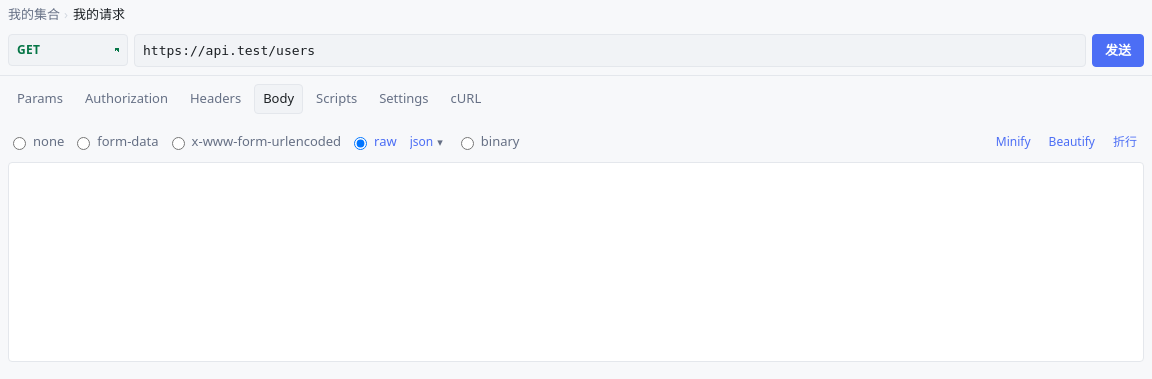
Test: 请求体类型的选择行（spec: 请求体类型的选择行） › 切换类型即切换编辑器，并清掉其它类型的残留内容
The width and height of the screenshot is (1152, 379).
Click the radio button labelled "form-data": (84, 143) [77,136,90,150]
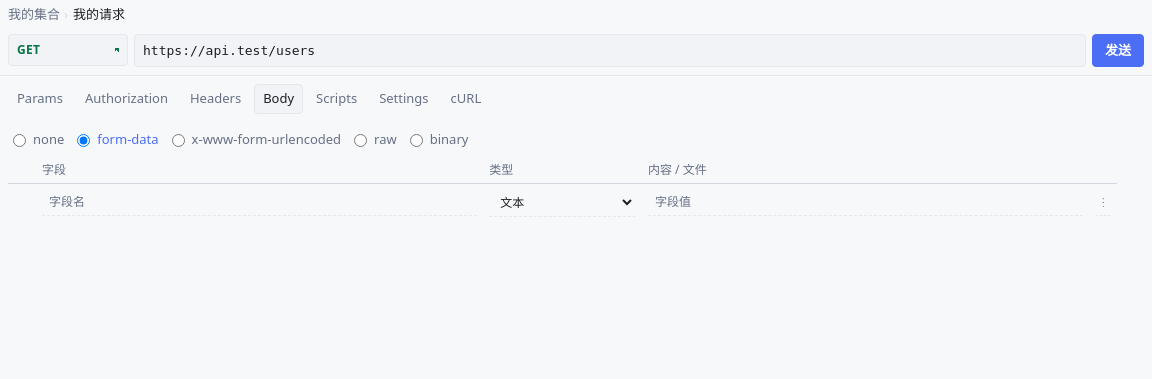
Result: the field named "新增字段的名称" is shown at [42,188,477,216]
